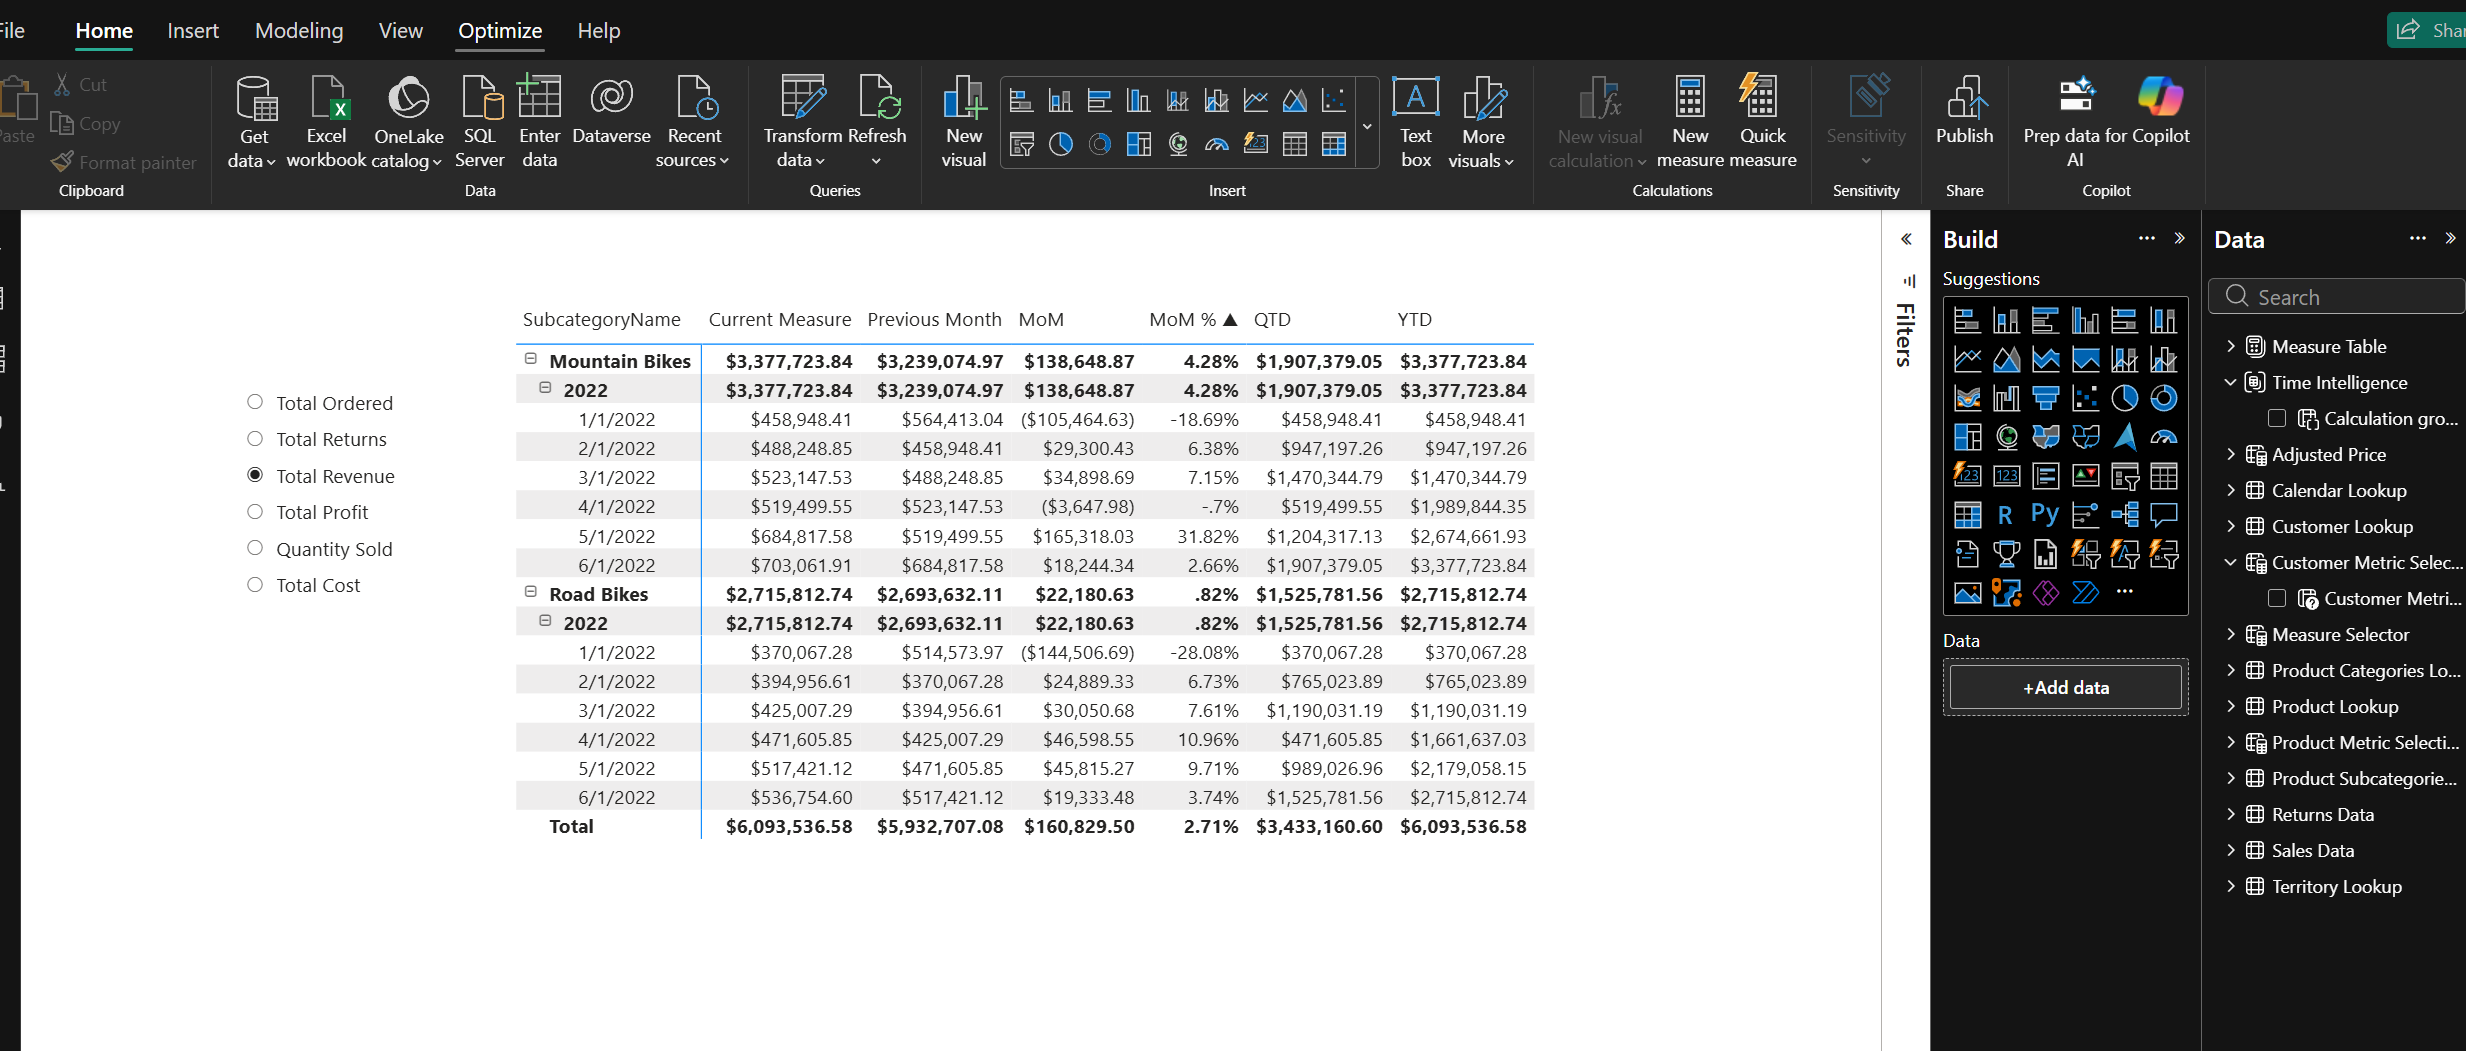

The page's visual inventory and layout, read from the dashboard file:
{"tool":"powerbi","page":{"name":"Calculation Groups","canvas":[1280,720],"ordinal":4},"visuals":[{"type":"pivotTable","fields":{"Values":["Measure Table.Total Revenue"],"Rows":["Product Subcategories Lookup.SubcategoryName","Calendar Lookup.Date Hierarchy.Year","Calendar Lookup.Date Hierarchy.Start of Month"],"Columns":["Time Intelligence.Calculation group column"]},"box":[335,59,726,395],"z":0},{"type":"slicer","fields":{"Values":["Measure Selector.Measure Selector"]},"box":[141,115,194,181],"z":1000}]}

Visuals, with their boxes on the page's 1280x720 design canvas (x1, y1, x2, y2). These are canvas units, not pixel positions in the 2466x1051 screenshot, which may show the page scaled, cropped or inside an application window:
pivotTable - Measure Table.Total Revenue x Product Subcategories Lookup.SubcategoryName: BBox(335, 59, 1061, 454)
slicer - Measure Selector.Measure Selector: BBox(141, 115, 335, 296)
